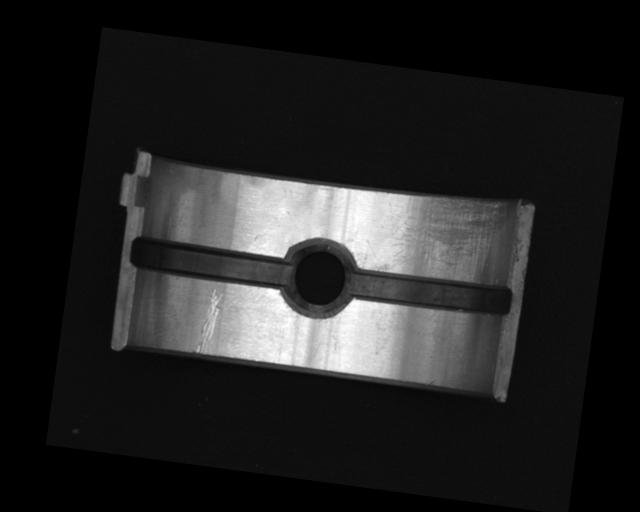gap: (346, 264, 513, 321), (127, 235, 291, 291)
hole: (277, 234, 360, 319)
nick: (194, 287, 225, 357)
scratch: (375, 181, 513, 287)
